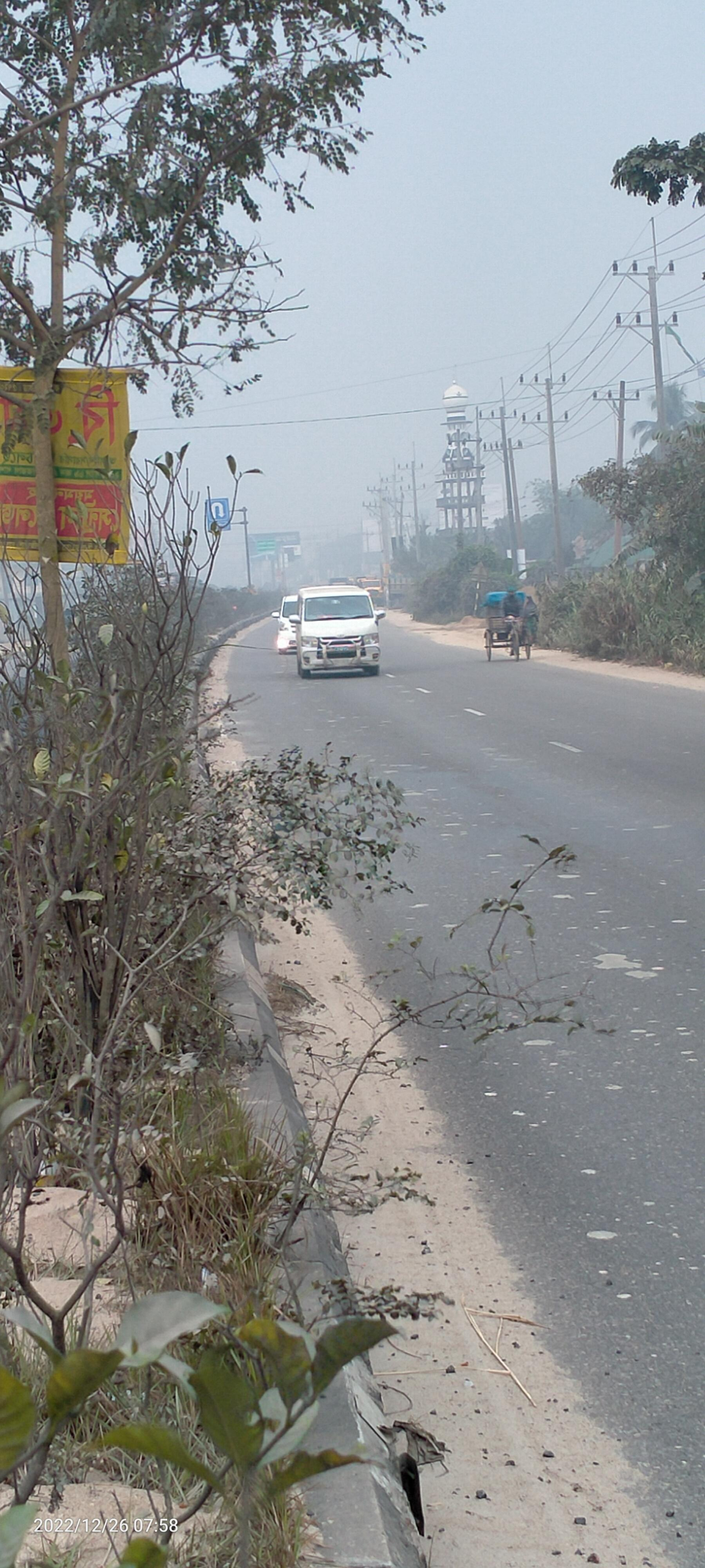Car: (291, 581, 392, 681), (273, 588, 316, 656)
